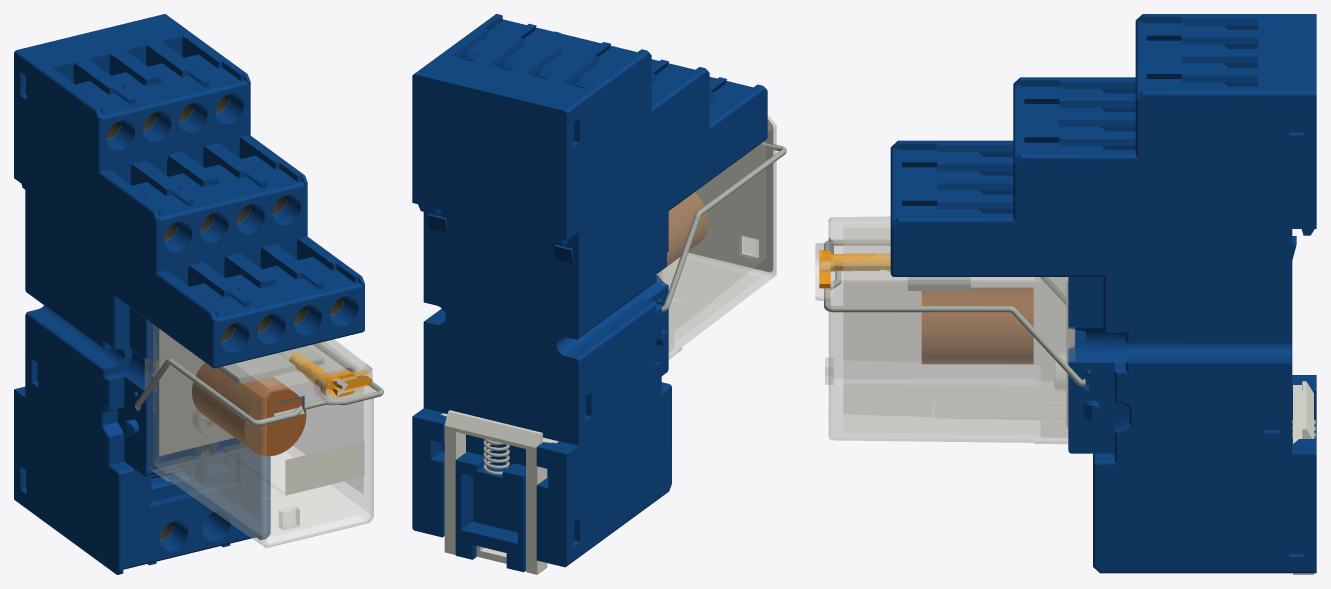
Rendered from relayFinder5534.glb.
The picture shows the model from 3 angles, left to right: view 1: azimuth 30°, elevation 25°; view 2: azimuth 150°, elevation 25°; view 3: azimuth 270°, elevation 25°; orthographic projection. The views are drawn at different scales.
Parts seen in each view (by area): view 1: finder9404_cad_0, industrial_finder_transparent_cover, industrial_coil, industrial_finder_base, industrial_finder_label, finder9404_cad_17, industrial_armature_plate, industrial_test; view 2: finder9404_cad_0, industrial_finder_transparent_cover, industrial_finder_pins_and_contacts, finder9404_cad_1, industrial_coil, finder9404_cad_17, finder9404_cad_2; view 3: finder9404_cad_0, industrial_finder_transparent_cover, industrial_coil, finder9404_cad_17, industrial_test, finder9404_cad_1, industrial_armature_plate.
Part boxes in pixels (x1=…): finder9404_cad_0: x1=14, y1=14, x2=364, y2=574; industrial_finder_transparent_cover: x1=144, y1=321, x2=379, y2=547; industrial_coil: x1=192, y1=362, x2=306, y2=456; industrial_finder_base: x1=156, y1=329, x2=234, y2=455; industrial_finder_label: x1=285, y1=441, x2=364, y2=495; finder9404_cad_17: x1=135, y1=343, x2=383, y2=425; industrial_armature_plate: x1=217, y1=346, x2=324, y2=384; industrial_test: x1=289, y1=352, x2=372, y2=397; finder9404_cad_0: x1=412, y1=14, x2=767, y2=572; industrial_finder_transparent_cover: x1=656, y1=116, x2=776, y2=359; industrial_finder_pins_and_contacts: x1=688, y1=119, x2=773, y2=272; finder9404_cad_1: x1=441, y1=410, x2=558, y2=574; industrial_coil: x1=659, y1=192, x2=708, y2=272; finder9404_cad_17: x1=661, y1=142, x2=786, y2=312; finder9404_cad_2: x1=483, y1=439, x2=509, y2=474; finder9404_cad_0: x1=890, y1=14, x2=1316, y2=573; industrial_finder_transparent_cover: x1=815, y1=216, x2=1075, y2=444; industrial_coil: x1=921, y1=287, x2=1033, y2=364; finder9404_cad_17: x1=824, y1=239, x2=1085, y2=386; industrial_test: x1=819, y1=250, x2=890, y2=288; finder9404_cad_1: x1=1293, y1=381, x2=1313, y2=574; industrial_armature_plate: x1=907, y1=277, x2=970, y2=290.
Bounding box in the file's own units: 0.027 × 0.0786 × 0.0717.
